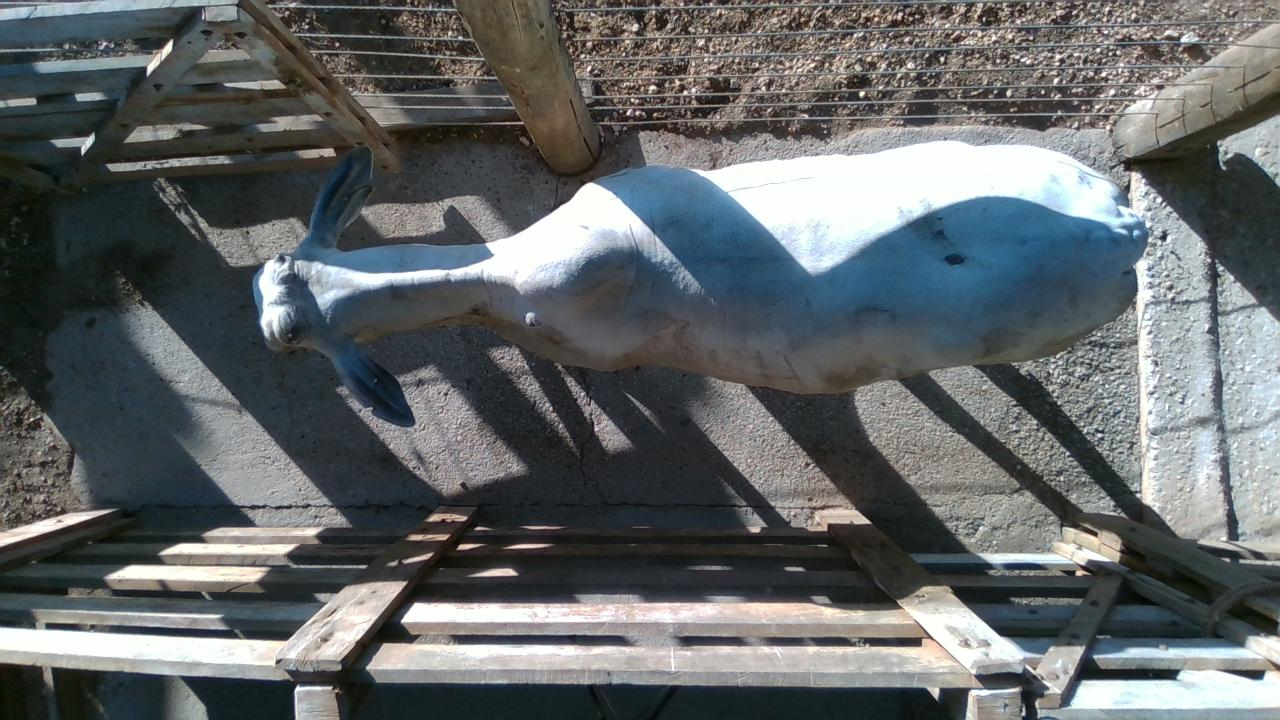cattle: (251, 136, 1149, 427)
